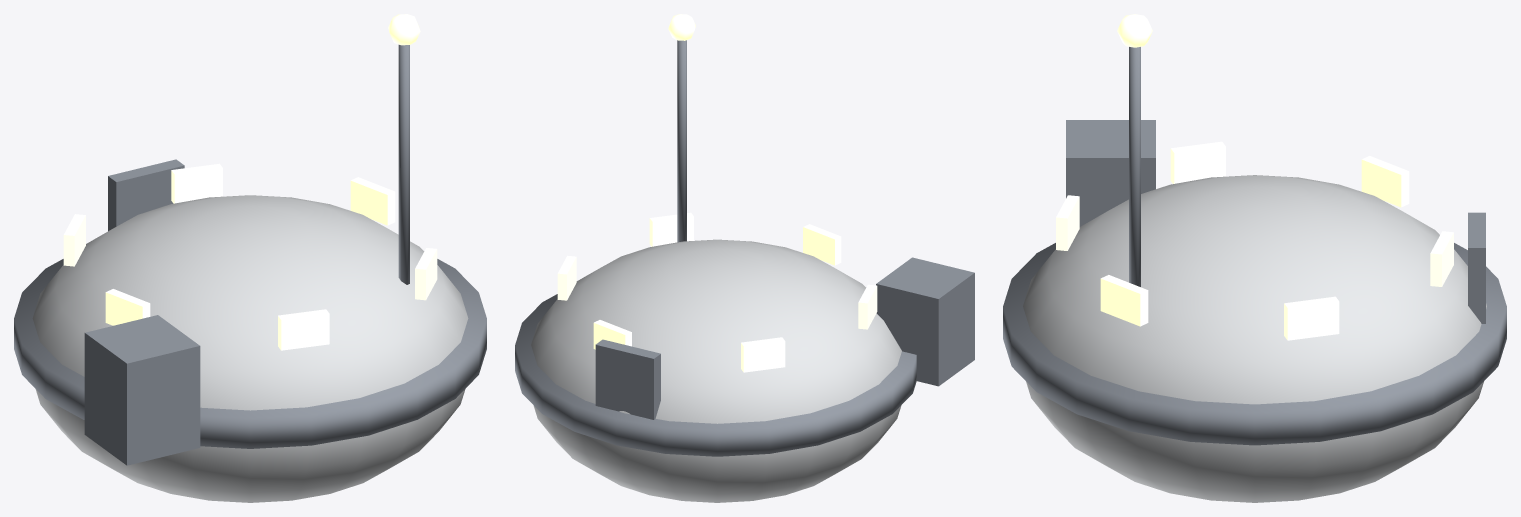
File: outpost.glb
3 views of the same model, side by side, from view 1: azimuth 30°, elevation 25°; view 2: azimuth 150°, elevation 25°; view 3: azimuth 270°, elevation 25° (orthographic). The views are drawn at different scales.
Parts seen in each view (by area): view 1: Outpost; view 2: Outpost; view 3: Outpost.
Part boxes in pixels (bbox=[...]): Outpost: bbox=[14, 14, 486, 502]; Outpost: bbox=[515, 14, 974, 502]; Outpost: bbox=[1003, 14, 1506, 502].
Size of the model in its own units: 8.55 by 9.3 by 8.4.
